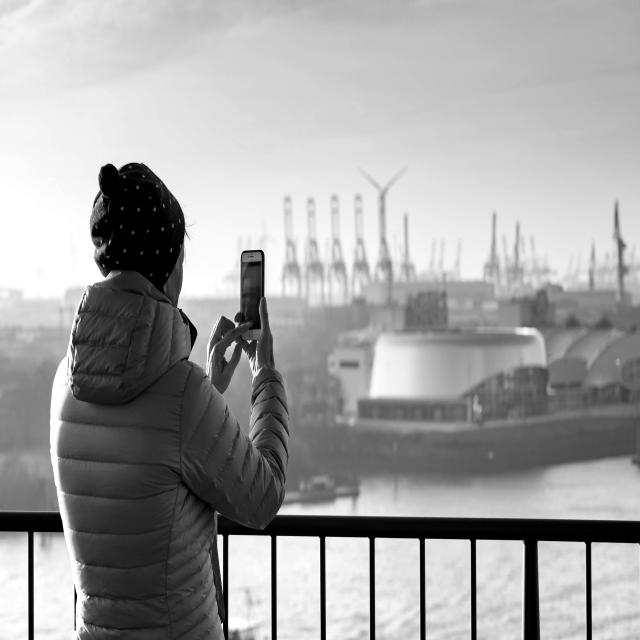No-Vest: (56, 350, 214, 640)
